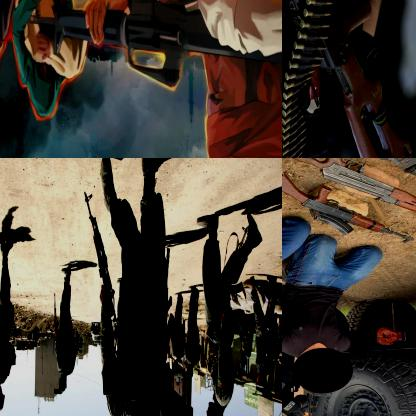rifle: (27, 0, 281, 96), (282, 0, 415, 157), (282, 163, 415, 247), (282, 158, 415, 240), (80, 184, 118, 330), (206, 220, 248, 347), (341, 158, 415, 196), (282, 375, 308, 415), (50, 290, 60, 348)
